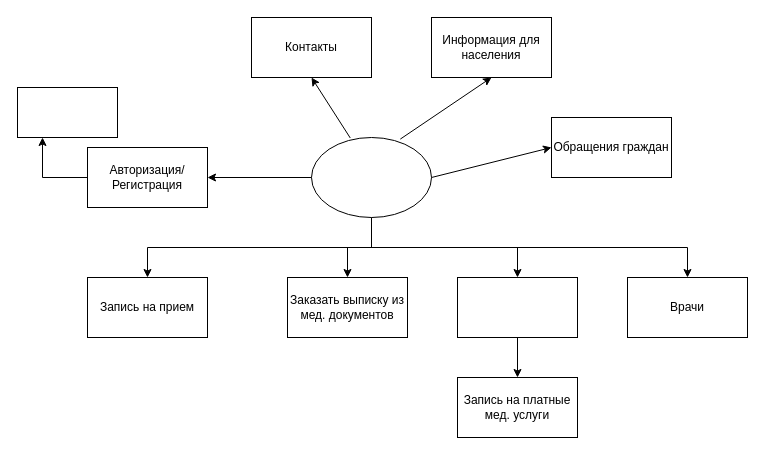
Some shapes in this 765 by 455 pixel diagram are drawn without their labels. Each missing label, with the box of its shape:
Главная страница: (310, 136, 432, 218)
Платные мед. услуги: (456, 276, 578, 338)
Профиль пользователя: (16, 86, 118, 138)
